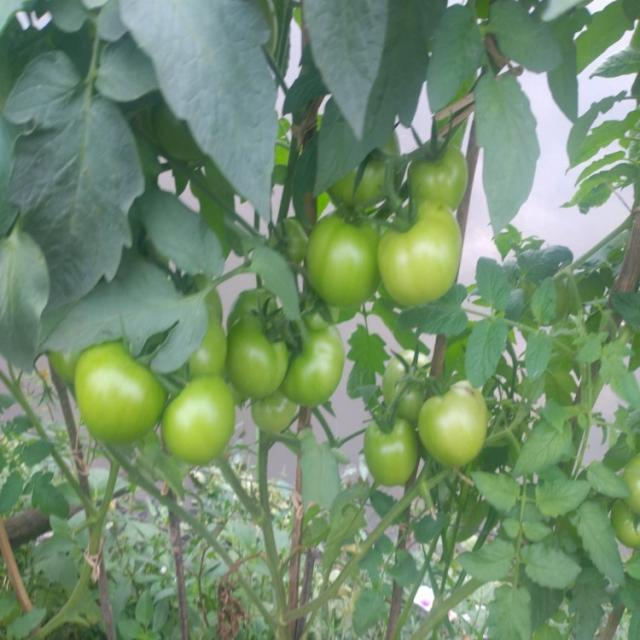tomato: (79, 345, 165, 447), (306, 207, 380, 308), (385, 209, 459, 306), (236, 286, 290, 400), (424, 382, 488, 469), (168, 377, 234, 460), (328, 134, 403, 204), (297, 317, 346, 404), (411, 141, 472, 205), (366, 416, 414, 490), (157, 103, 209, 161), (197, 290, 230, 371), (615, 455, 640, 556), (383, 354, 418, 414), (252, 404, 301, 435), (52, 349, 77, 384)
